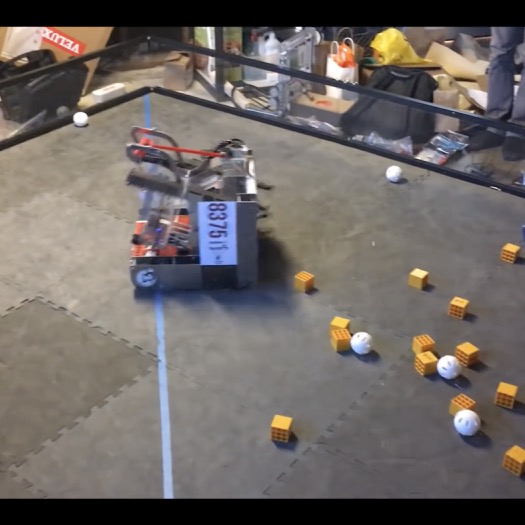robot: (120, 121, 272, 299)
